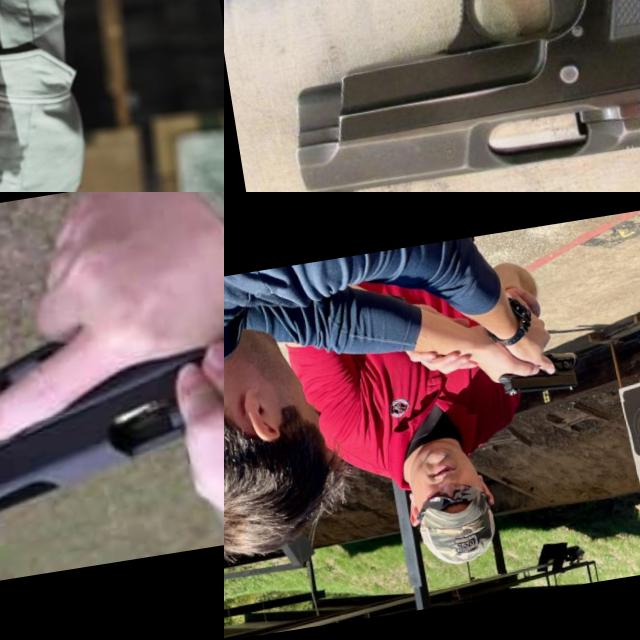handgun: (225, 0, 640, 192), (0, 299, 224, 558), (0, 57, 53, 192), (496, 358, 583, 405)
